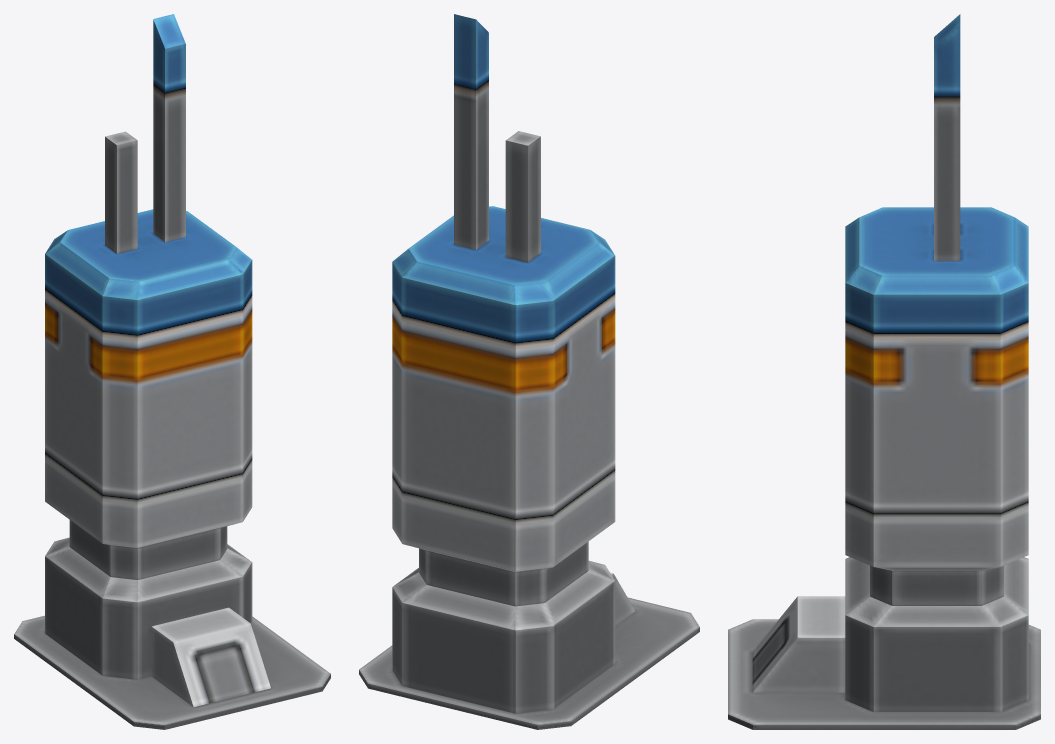
File: allies_house_4.FBX
3 views of the same model, side by side, from view 1: azimuth 30°, elevation 25°; view 2: azimuth 150°, elevation 25°; view 3: azimuth 270°, elevation 25° (orthographic). The views are drawn at different scales.
Parts seen in each view (by area): view 1: allies_house_4; view 2: allies_house_4; view 3: allies_house_4.
Boxes of the visible parts, <box> form: allies_house_4: <box>14,14,330,729</box>; allies_house_4: <box>359,14,699,729</box>; allies_house_4: <box>728,14,1040,729</box>.
Bounding box in the file's own units: 819 × 2425 × 1025.
